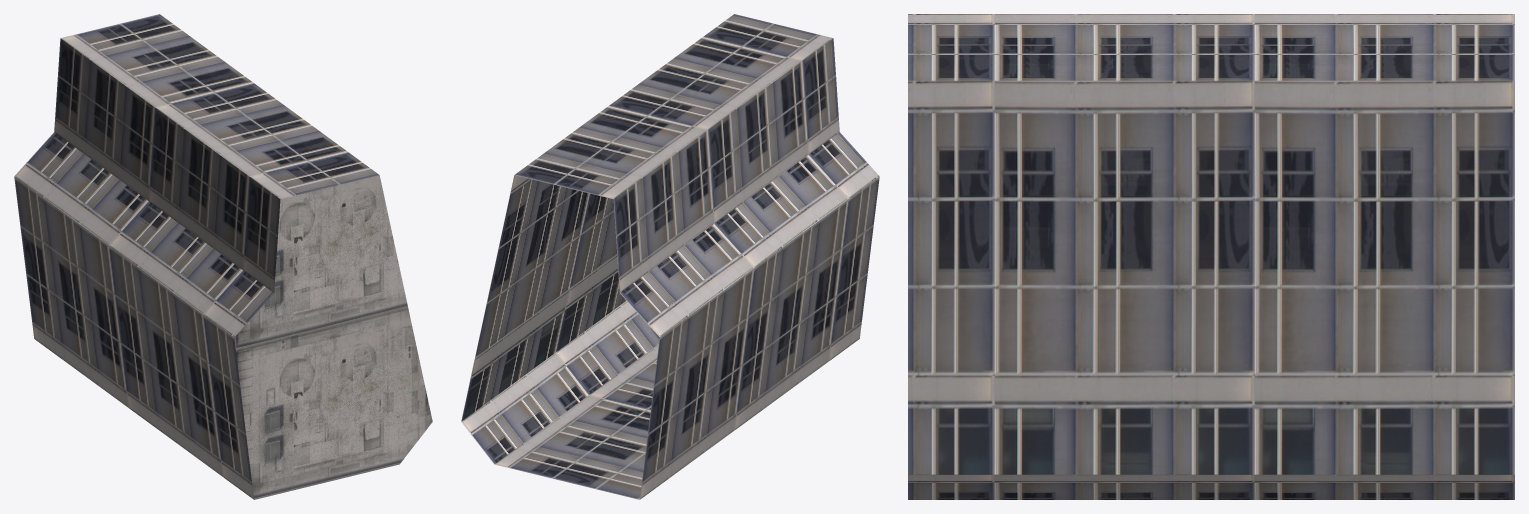
File: building-7.obj
3 renders of one model, left to right at view 1: azimuth 30°, elevation 25°; view 2: azimuth 150°, elevation 25°; view 3: azimuth 270°, elevation 25°, orthographic. The views are drawn at different scales.
Bounding box in the file's own units: 9 × 12.75 × 17.28.
